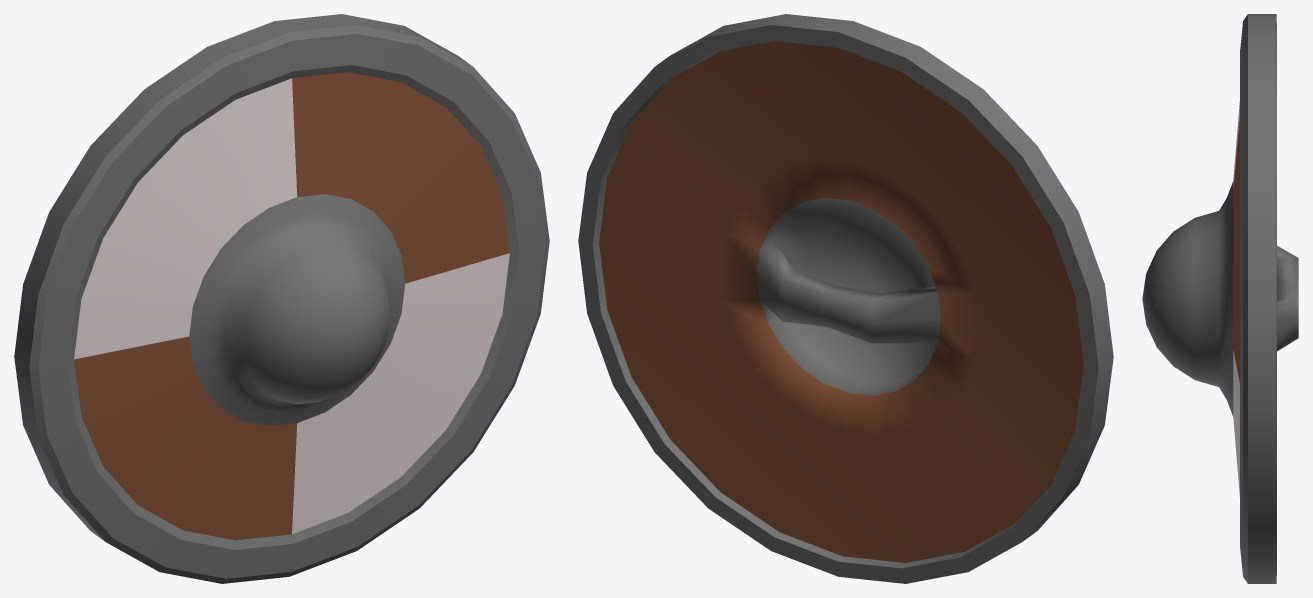
The model's file is VikingBucklerScaled.fbx.
The picture shows the model from 3 angles, left to right: view 1: azimuth 30°, elevation 25°; view 2: azimuth 150°, elevation 25°; view 3: azimuth 270°, elevation 25°; orthographic projection. The views are drawn at different scales.
Visible parts, largest first — view 1: Cylinder; view 2: Cylinder; view 3: Cylinder.
Boxes of the visible parts, x1,y1,x2,y2 form: Cylinder: (14,14,549,583); Cylinder: (578,14,1113,583); Cylinder: (1142,14,1298,583).
Size of the model in its own units: 21.72 by 21.72 by 5.93.
